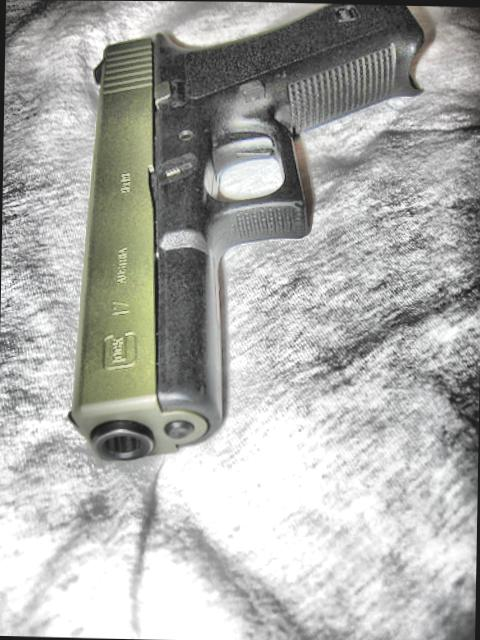pistol: (70, 0, 426, 483)
